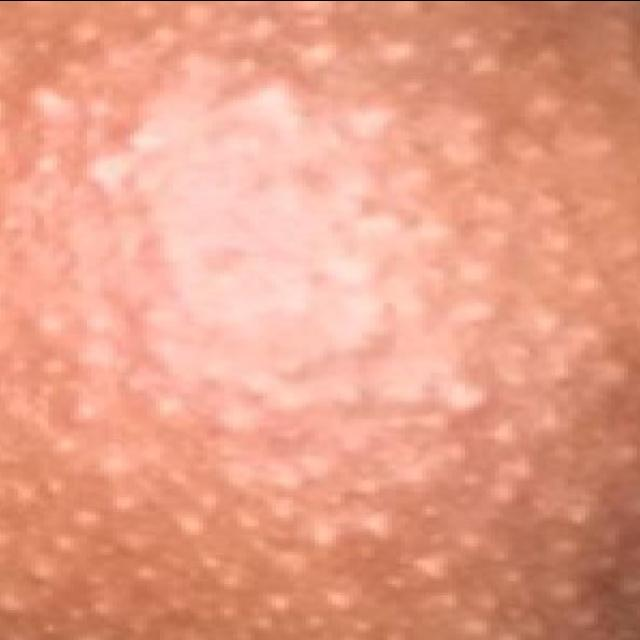whitehead: (0, 47, 612, 587)
